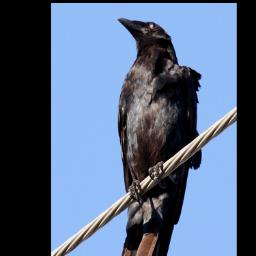Crow: (114, 15, 203, 256)
